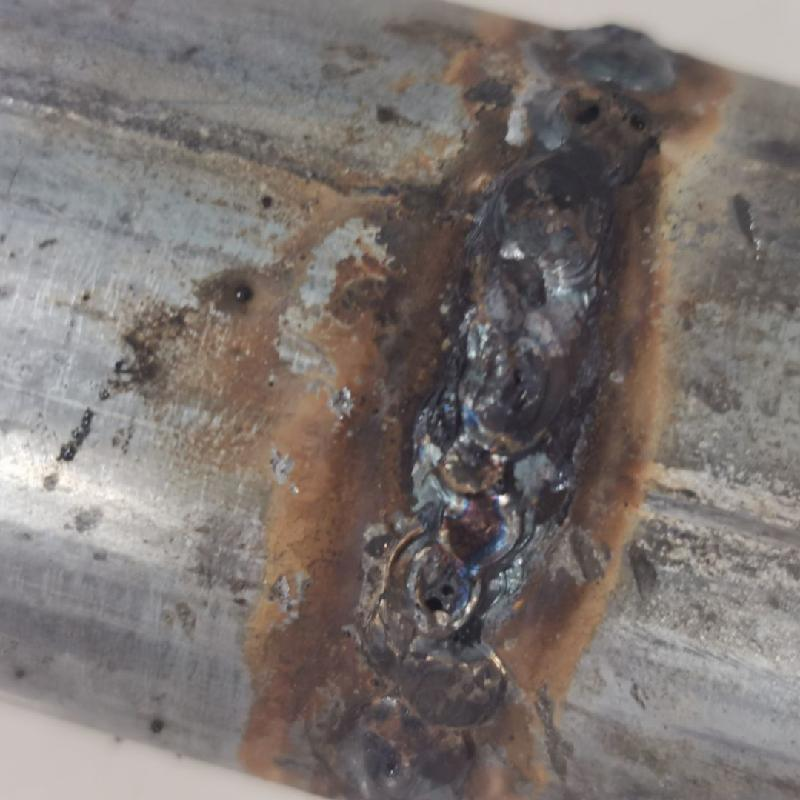Surface_pores: (563, 75, 657, 147), (411, 572, 469, 621)
